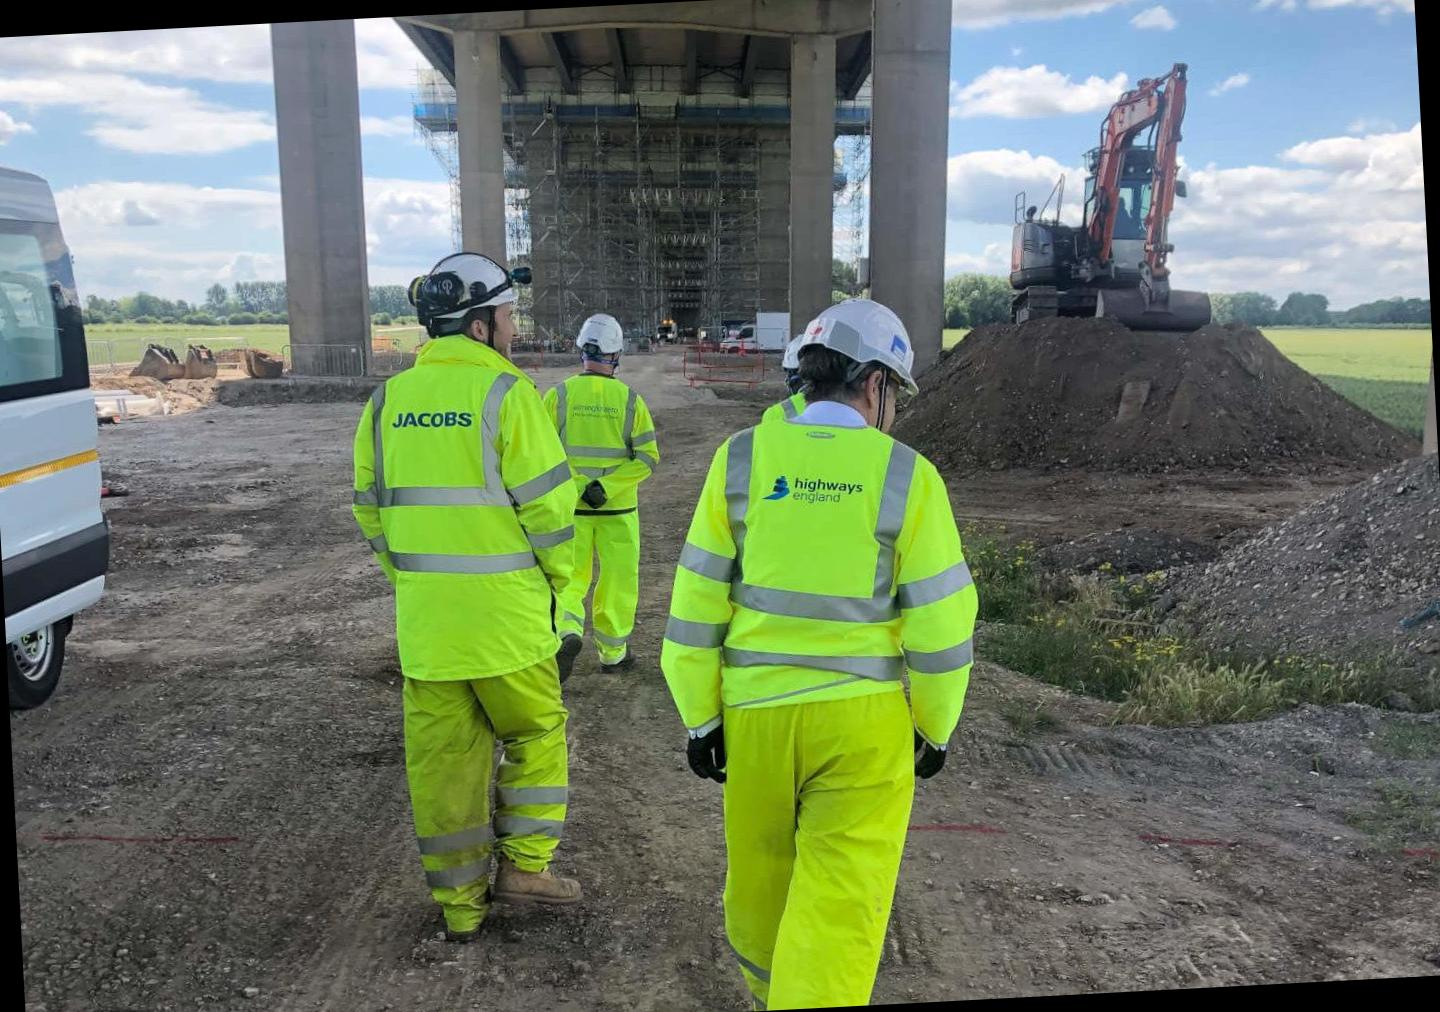Helmet: (786, 272, 922, 392), (411, 235, 542, 336)
Vest: (691, 403, 978, 747), (357, 337, 588, 681)
